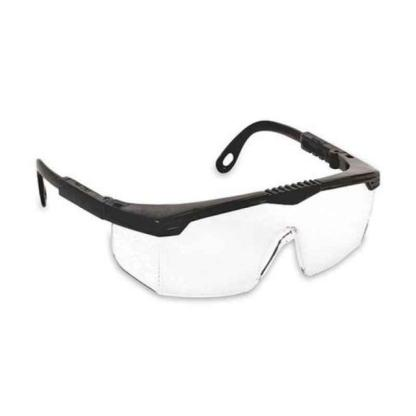oculos: (24, 117, 414, 301)
